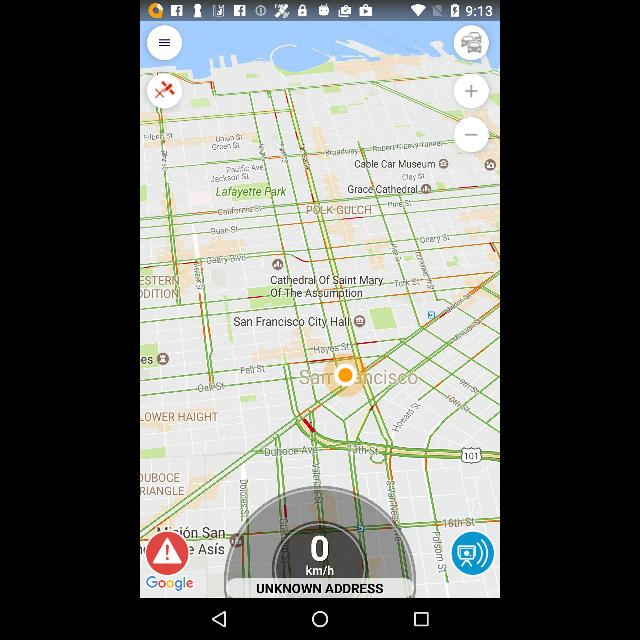icon: (312, 611, 328, 627), (212, 611, 226, 627), (414, 612, 428, 626)
map: (140, 20, 500, 598)
panel: (140, 598, 500, 640)
uppertaskbar: (140, 0, 500, 20)
